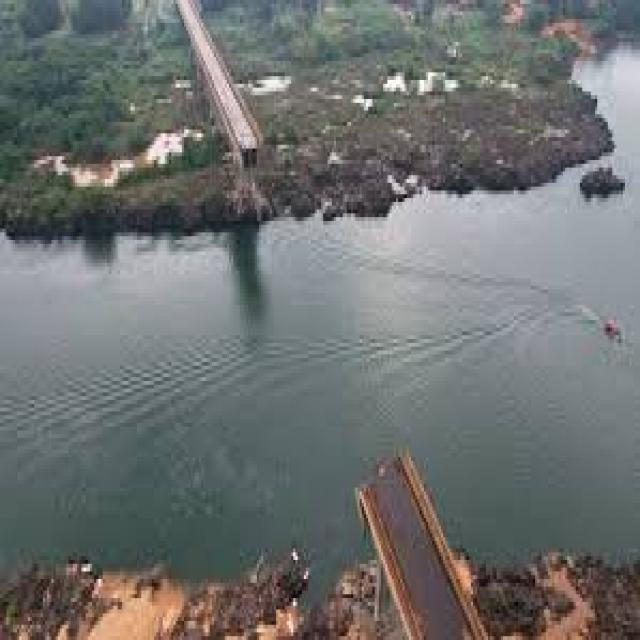bridge collapse: (92, 58, 482, 640)
